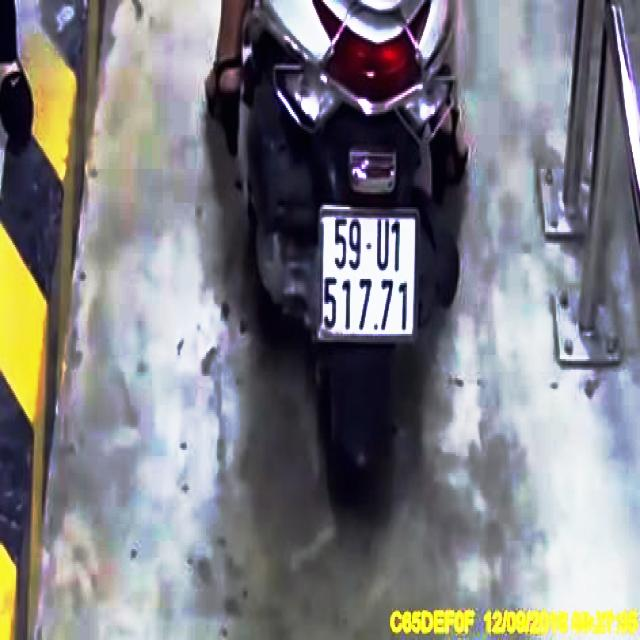license_plate: (321, 212, 419, 340)
